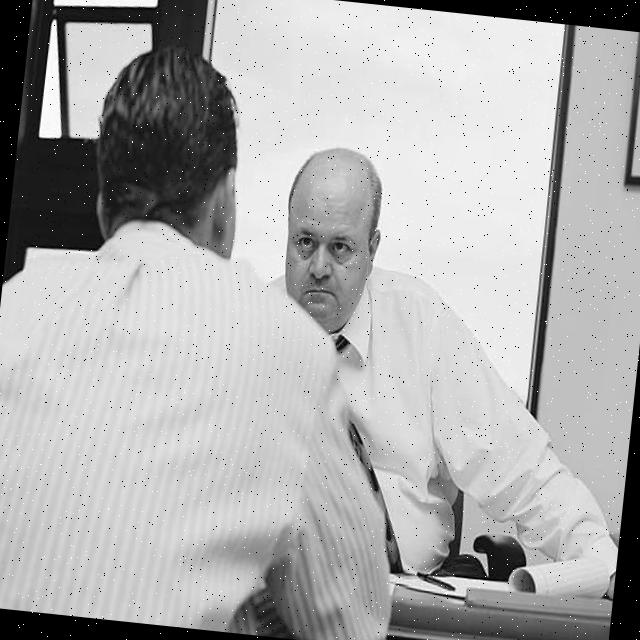Angry: (275, 174, 378, 336)
